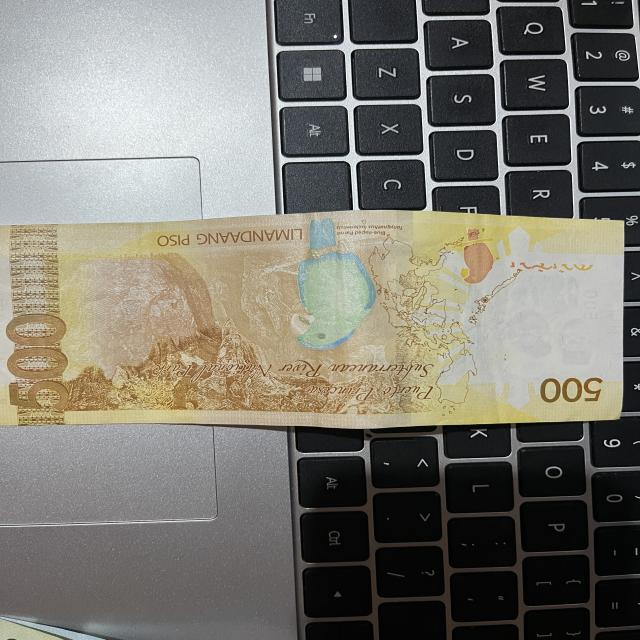500_big_parrot: (274, 212, 418, 352)
500_parrot_watermark: (429, 221, 511, 295)
see_through_mark: (496, 252, 610, 282)
value_watermark: (574, 284, 605, 324)
watermark: (472, 271, 613, 381)
